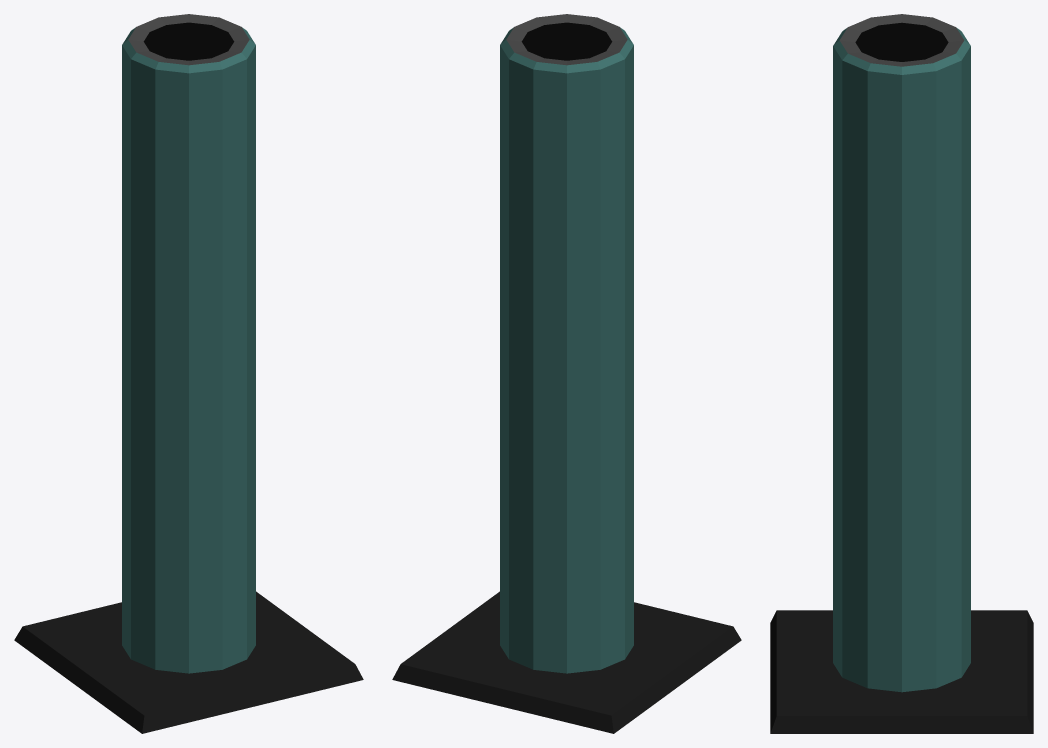
File: BLUTube.fbx
The picture shows the model from 3 angles, left to right: view 1: azimuth 30°, elevation 25°; view 2: azimuth 150°, elevation 25°; view 3: azimuth 270°, elevation 25°; orthographic projection. The views are drawn at different scales.
Parts seen in each view (by area): view 1: PreloadedTube_DummyPreloadedTube; view 2: PreloadedTube_DummyPreloadedTube; view 3: PreloadedTube_DummyPreloadedTube.
Boxes of the visible parts, <box> form: PreloadedTube_DummyPreloadedTube: <box>14,14,363,733</box>; PreloadedTube_DummyPreloadedTube: <box>392,14,741,733</box>; PreloadedTube_DummyPreloadedTube: <box>770,14,1033,733</box>.
Bounding box in the file's own units: 19.1 × 51.07 × 19.1.
